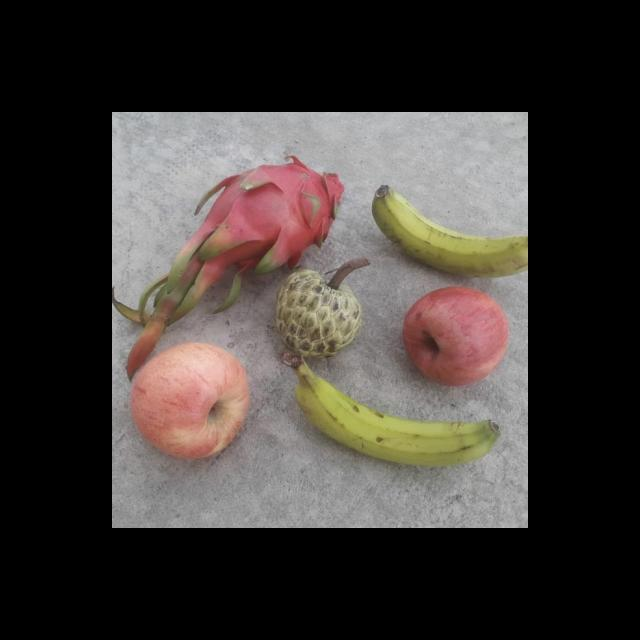Sakya fruit: (272, 266, 362, 361)
apple: (126, 344, 248, 456), (400, 285, 516, 386)
banana: (296, 374, 501, 466), (372, 180, 528, 280)
pitaya: (215, 158, 346, 270)
